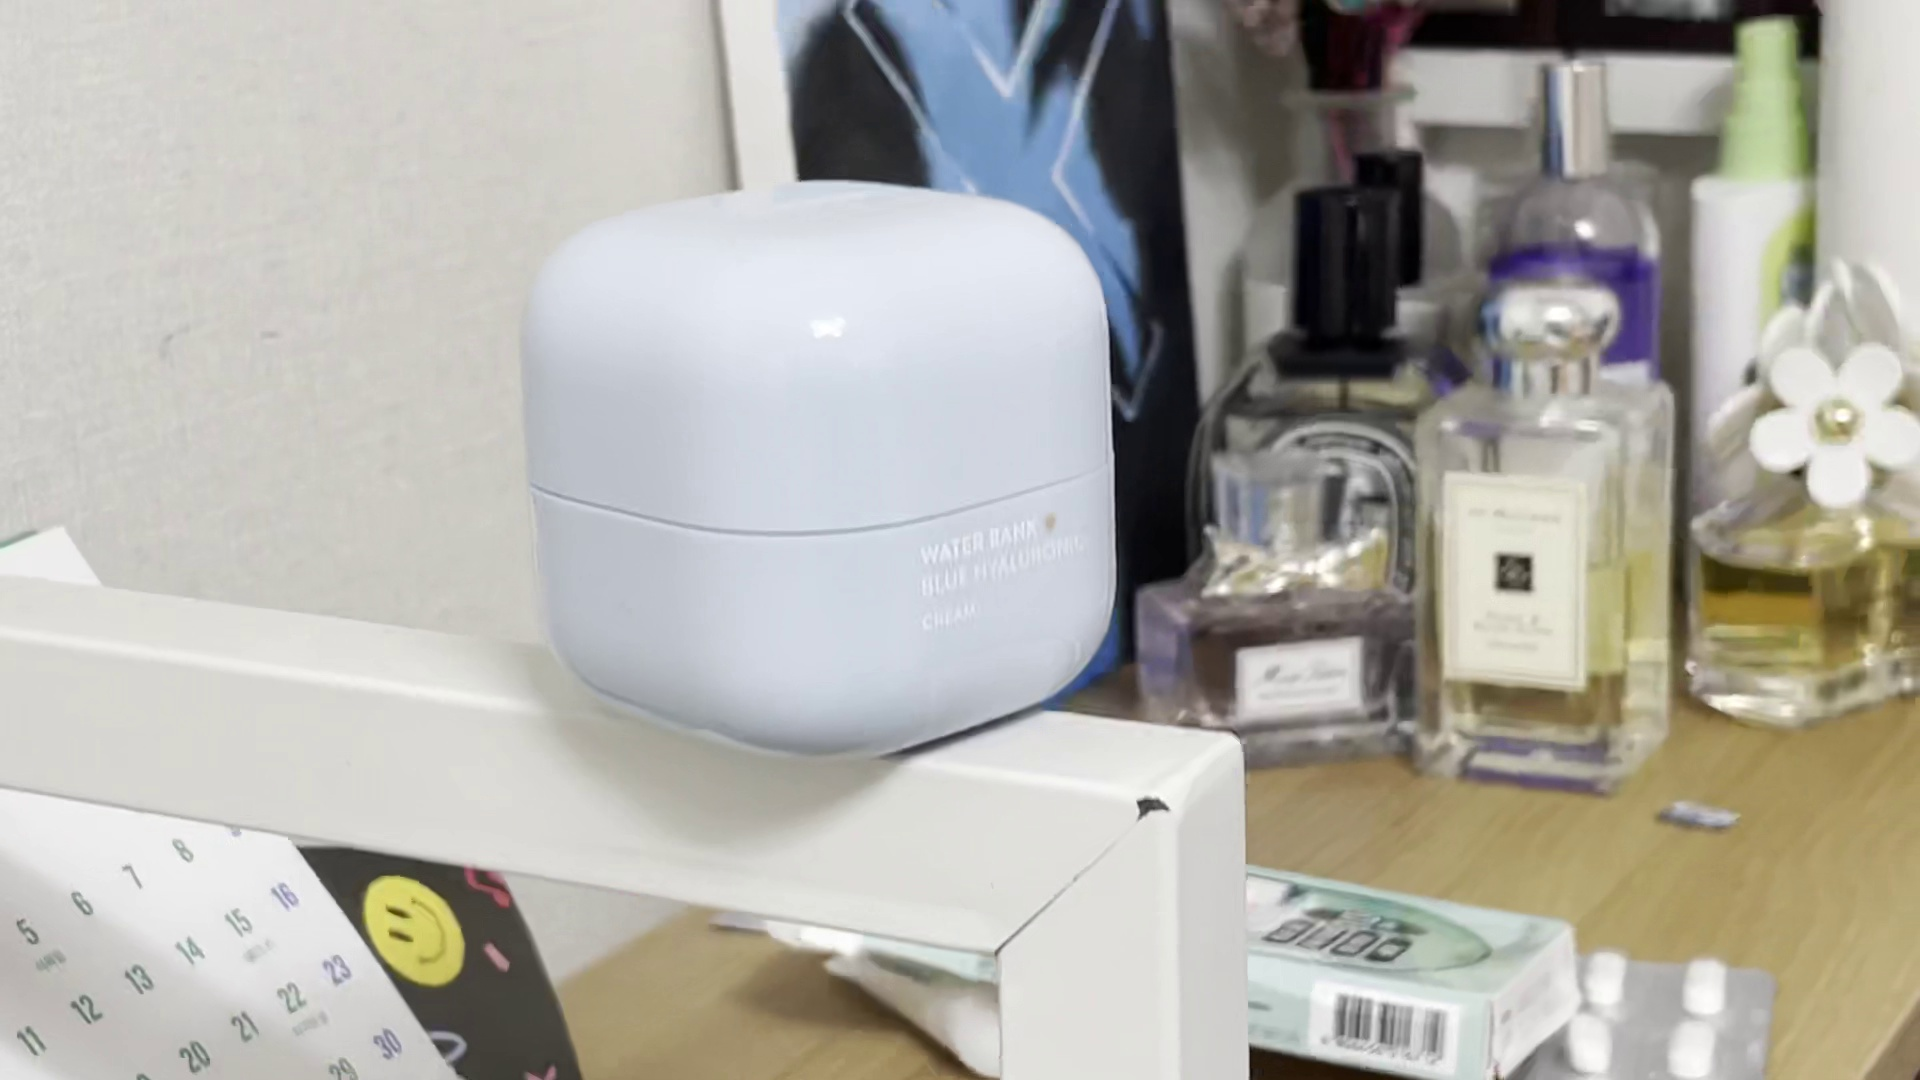cream: (512, 174, 1120, 766)
